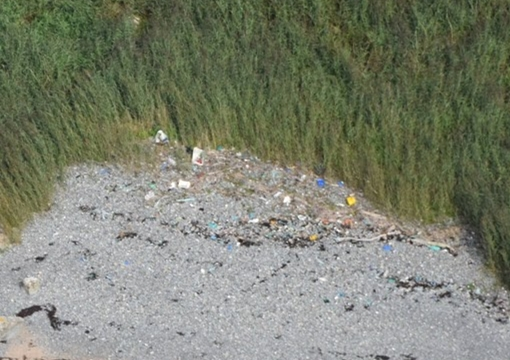scattered_barrel: (267, 169, 365, 247), (144, 120, 216, 198)
together_barrel: (208, 208, 448, 258)
